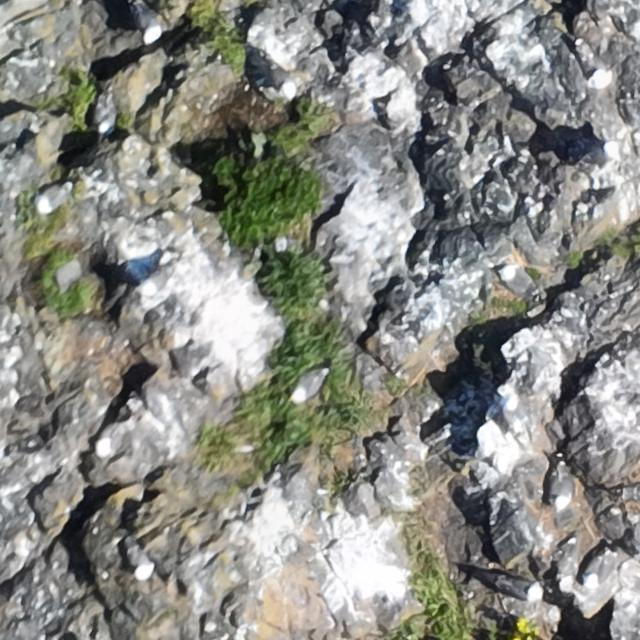umineko: (545, 458, 577, 522), (136, 259, 180, 295), (495, 262, 537, 296), (98, 422, 136, 458), (293, 369, 323, 400), (37, 185, 69, 213), (500, 578, 540, 599), (137, 8, 161, 42), (132, 550, 152, 580)
